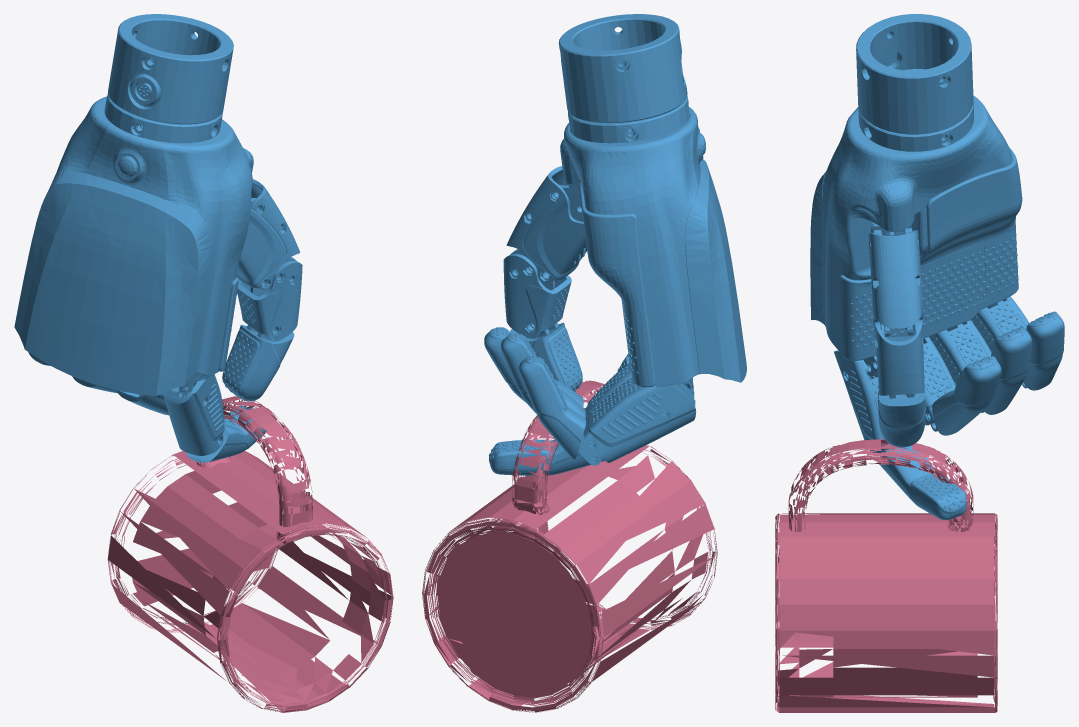
The picture shows the model from 3 angles, left to right: view 1: azimuth 30°, elevation 25°; view 2: azimuth 150°, elevation 25°; view 3: azimuth 270°, elevation 25°; orthographic projection. The views are drawn at different scales.
Parts seen in each view (by area): view 1: 3; view 2: 3; view 3: 3.
Boxes of the visible parts, x1,y1,x2,y2 form: 3: (14, 14, 393, 712); 3: (422, 14, 746, 712); 3: (775, 14, 1064, 712).
Bounding box in the file's own units: 0.1396 × 0.3042 × 0.1253.
